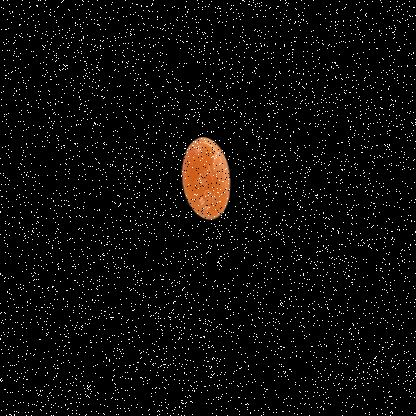welood: (150, 113, 261, 245)
